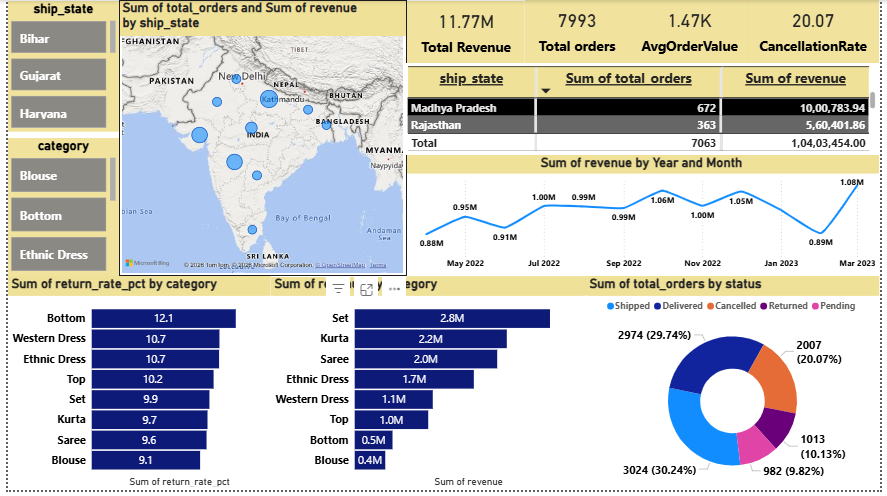

Layout of this report page (visuals, bound fields, positions):
{"tool":"powerbi","page":{"name":"Page 1","canvas":[1280,720],"ordinal":0},"visuals":[{"type":"card","fields":{"Values":["Sum(revenue_by_category.revenue)"]},"box":[586.3,1.5,173.4,97],"z":0},{"type":"card","fields":{"Values":["Sum(Monthly_Revenue_Trend (2).orders)"]},"box":[759.7,0,152.8,98.4],"z":1000},{"type":"card","fields":{"Values":["order_status_breakdown_cancellation_rate.CancellationRate"]},"box":[1085.9,0,194,98.4],"z":2000},{"type":"card","fields":{"Values":["Monthly_Revenue_Trend (2).AverageOrderValue"]},"box":[912.5,0,177.8,98.4],"z":3000},{"type":"clusteredBarChart","fields":{"Category":["revenue_by_category.category"],"Y":["Sum(revenue_by_category.revenue)"]},"box":[386.4,405.6,462.9,314.4],"z":4000},{"type":"lineChart","fields":{"Category":["Monthly_Revenue_Trend (2).month.Variation.Date Hierarchy.Year","Monthly_Revenue_Trend (2).month.Variation.Date Hierarchy.Month"],"Y":["Sum(Monthly_Revenue_Trend (2).revenue)"]},"box":[581.9,227.8,698,177.8],"z":5000},{"type":"donutChart","fields":{"Category":["order_status_breakdown_cancellation_rate.status"],"Y":["Sum(order_status_breakdown_cancellation_rate.total_orders)"]},"box":[849.3,405.6,430.5,314.4],"z":6000},{"type":"map","fields":{"Category":["revenue_by_state.ship_state"],"Size":["Sum(revenue_by_state.total_orders)"]},"box":[163.1,0,423.2,405.6],"z":7000},{"type":"advancedSlicerVisual","fields":{"Values":["revenue_by_category.category"]},"box":[0,202.8,163.1,202.8],"z":8000},{"type":"advancedSlicerVisual","fields":{"Values":["revenue_by_state.ship_state"]},"box":[0,1.5,163.1,192.5],"z":9000},{"type":"tableEx","fields":{"Values":["revenue_by_state.ship_state","Sum(revenue_by_state.total_orders)","Sum(revenue_by_state.revenue)"]},"box":[581.9,92.5,698,135.2],"z":10000},{"type":"clusteredBarChart","fields":{"Category":["return_rate_by_category.category"],"Y":["Sum(return_rate_by_category.return_rate_pct)"]},"box":[0,405.6,386.4,314.4],"z":11000}]}

Visuals, with their boxes in screenshot pixels (x1, y1, x2, y2), scaled from the page's 1280x720 canvas onto the 887x496 screenshot:
card - Sum(revenue_by_category.revenue): l=406, t=1, r=526, b=68
card - Sum(Monthly_Revenue_Trend (2).orders): l=526, t=0, r=632, b=68
card - order_status_breakdown_cancellation_rate.CancellationRate: l=752, t=0, r=886, b=68
card - Monthly_Revenue_Trend (2).AverageOrderValue: l=632, t=0, r=756, b=68
clusteredBarChart - revenue_by_category.category x Sum(revenue_by_category.revenue): l=268, t=279, r=589, b=495
lineChart - Monthly_Revenue_Trend (2).month.Variation.Date Hierarchy.Year x Monthly_Revenue_Trend (2).month.Variation.Date Hierarchy.Month: l=403, t=157, r=886, b=279
donutChart - order_status_breakdown_cancellation_rate.status x Sum(order_status_breakdown_cancellation_rate.total_orders): l=589, t=279, r=886, b=495
map - revenue_by_state.ship_state x Sum(revenue_by_state.total_orders): l=113, t=0, r=406, b=279
advancedSlicerVisual - revenue_by_category.category: l=0, t=140, r=113, b=279
advancedSlicerVisual - revenue_by_state.ship_state: l=0, t=1, r=113, b=134
tableEx - revenue_by_state.ship_state x Sum(revenue_by_state.total_orders): l=403, t=64, r=886, b=157
clusteredBarChart - return_rate_by_category.category x Sum(return_rate_by_category.return_rate_pct): l=0, t=279, r=268, b=495
